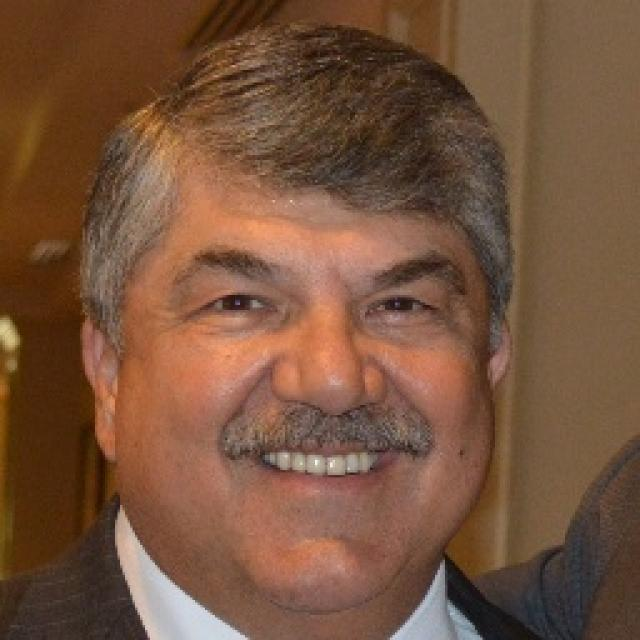earlobe: (93, 408, 119, 464)
eye: (205, 294, 275, 314), (368, 297, 434, 316)
nose: (276, 388, 387, 432)
wholeear: (78, 316, 119, 464), (484, 316, 519, 386)
